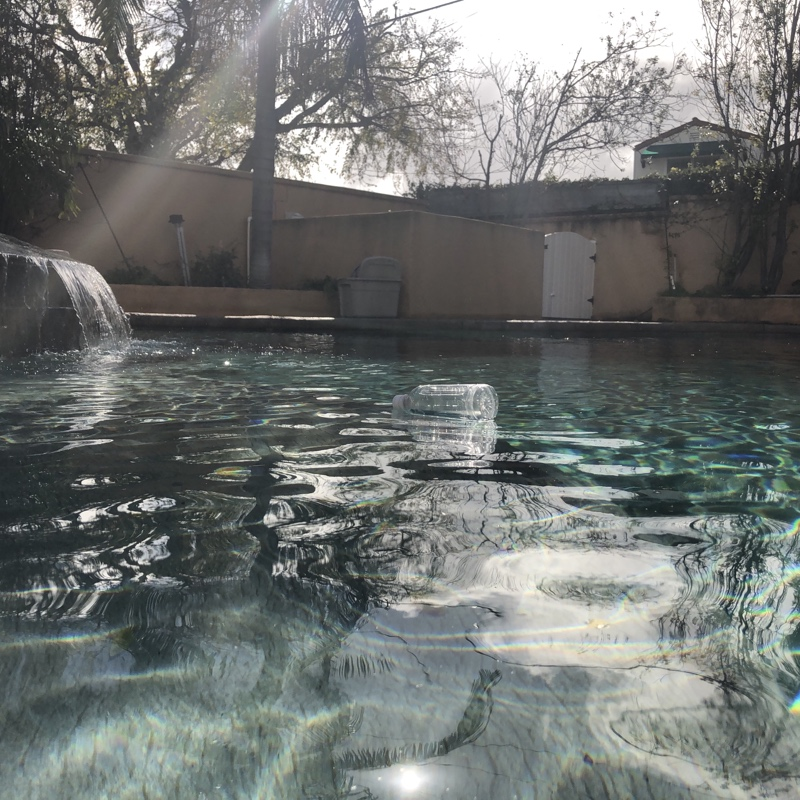Plastic Bottle: (389, 375, 501, 427)
